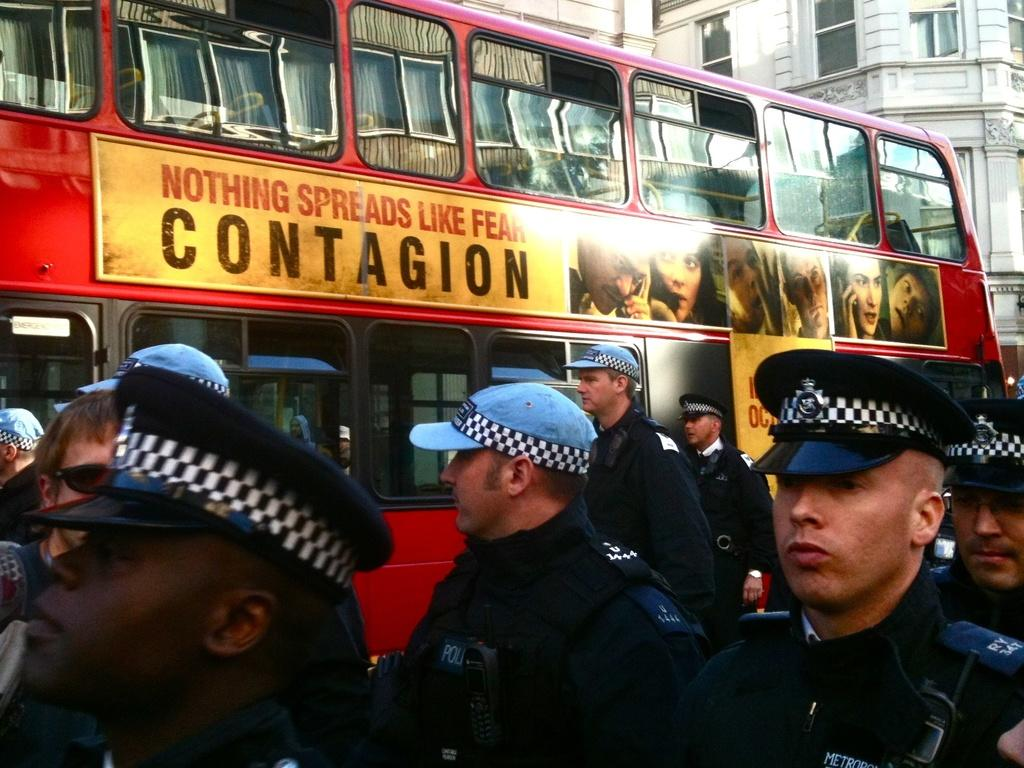Hat: (25, 365, 392, 600), (751, 352, 976, 481), (407, 381, 602, 479), (82, 336, 227, 398), (946, 404, 1023, 494), (564, 340, 640, 380), (0, 408, 45, 452), (673, 396, 728, 416)
